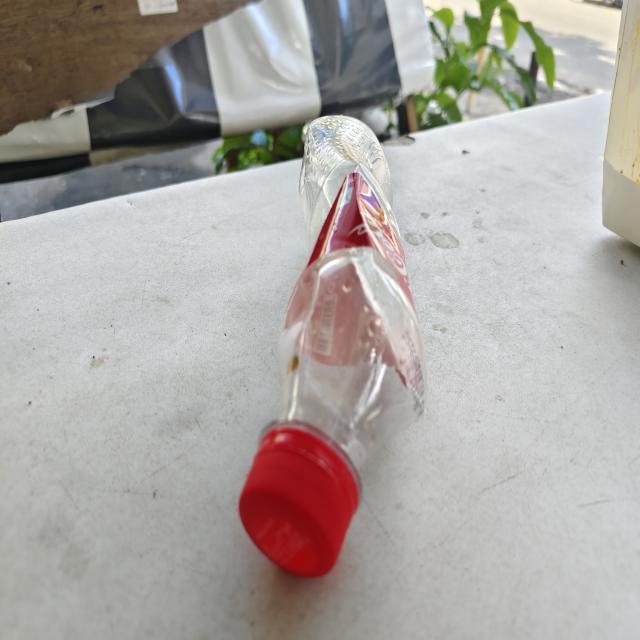Bottle: (239, 115, 425, 576)
